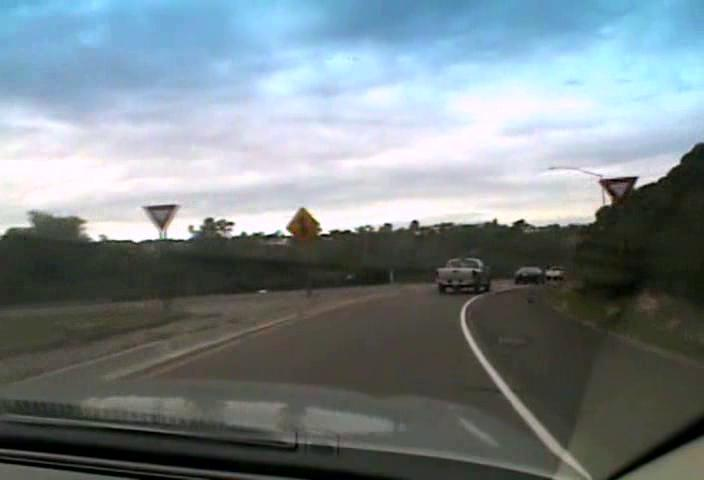yield: (598, 175, 638, 205)
